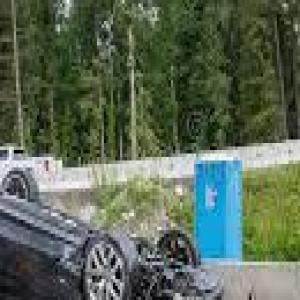severe: (0, 129, 224, 300)
